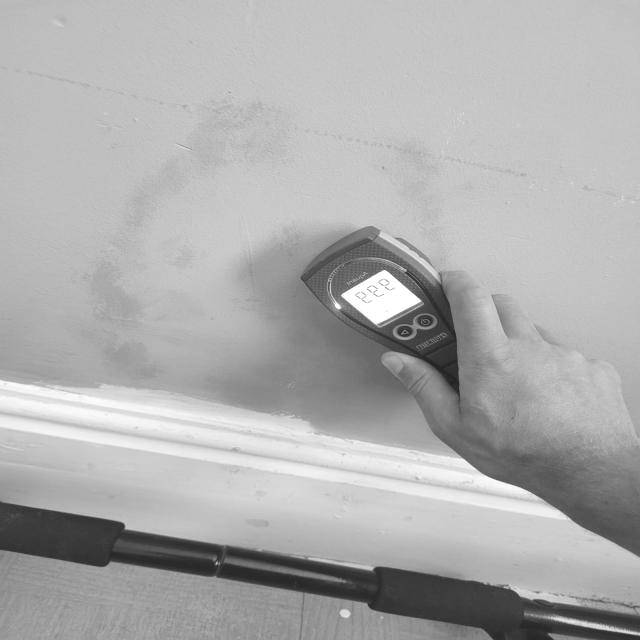stain marks: (66, 182, 188, 388), (60, 92, 302, 182), (199, 456, 403, 550), (364, 122, 473, 270), (473, 150, 637, 210), (206, 323, 316, 408), (222, 220, 304, 308), (4, 59, 117, 93), (300, 122, 370, 150)
